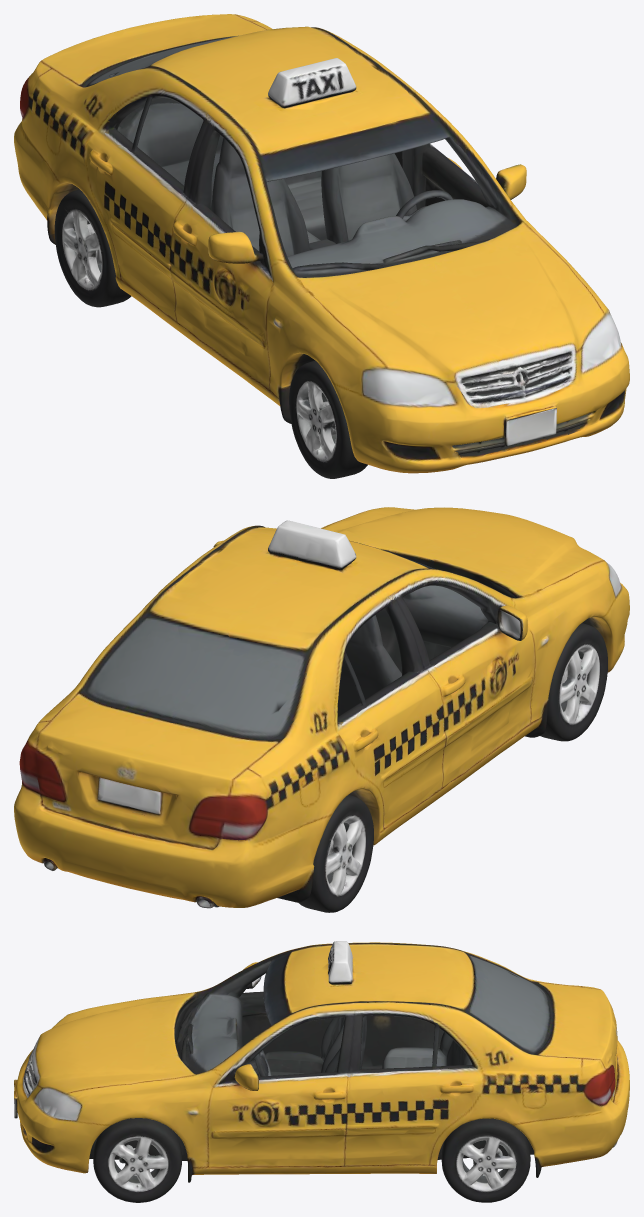
File: 002_taxi_yellow.glb
3 renders of one model, top to bottom at view 1: azimuth 30°, elevation 25°; view 2: azimuth 150°, elevation 25°; view 3: azimuth 270°, elevation 25°, orthographic. The views are drawn at different scales.
Parts seen in each view (by area): view 1: geometry_0; view 2: geometry_0; view 3: geometry_0.
Boxes of the visible parts, box(x1,y1,x2,y2) form: geometry_0: box(14, 14, 629, 478); geometry_0: box(14, 507, 629, 912); geometry_0: box(14, 941, 629, 1202).
Bounding box in the file's own units: 2.18 × 1.84 × 5.
1 material, 1 textured.
